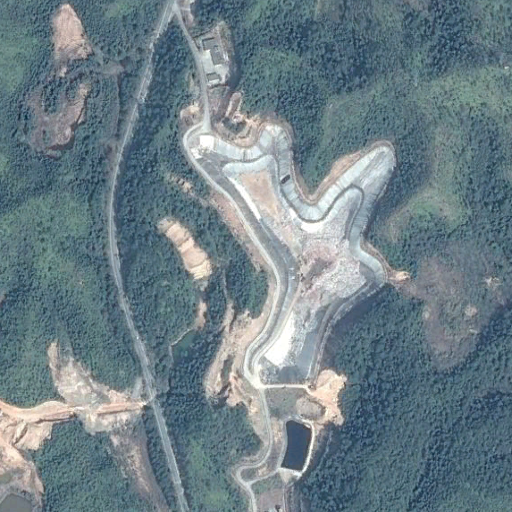lf: (186, 117, 392, 384)
